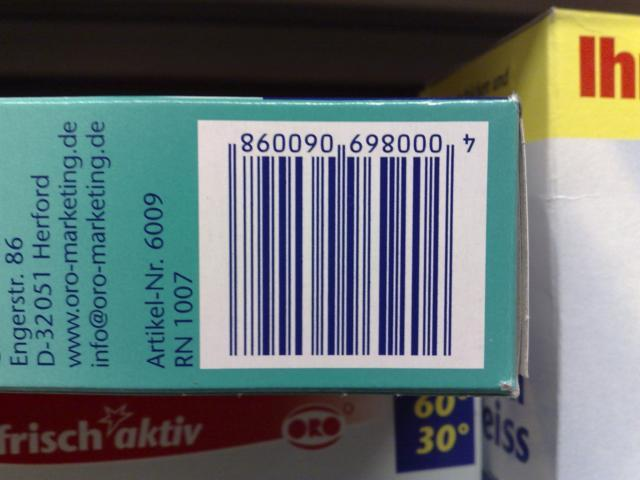Barcode: (198, 119, 489, 371)
